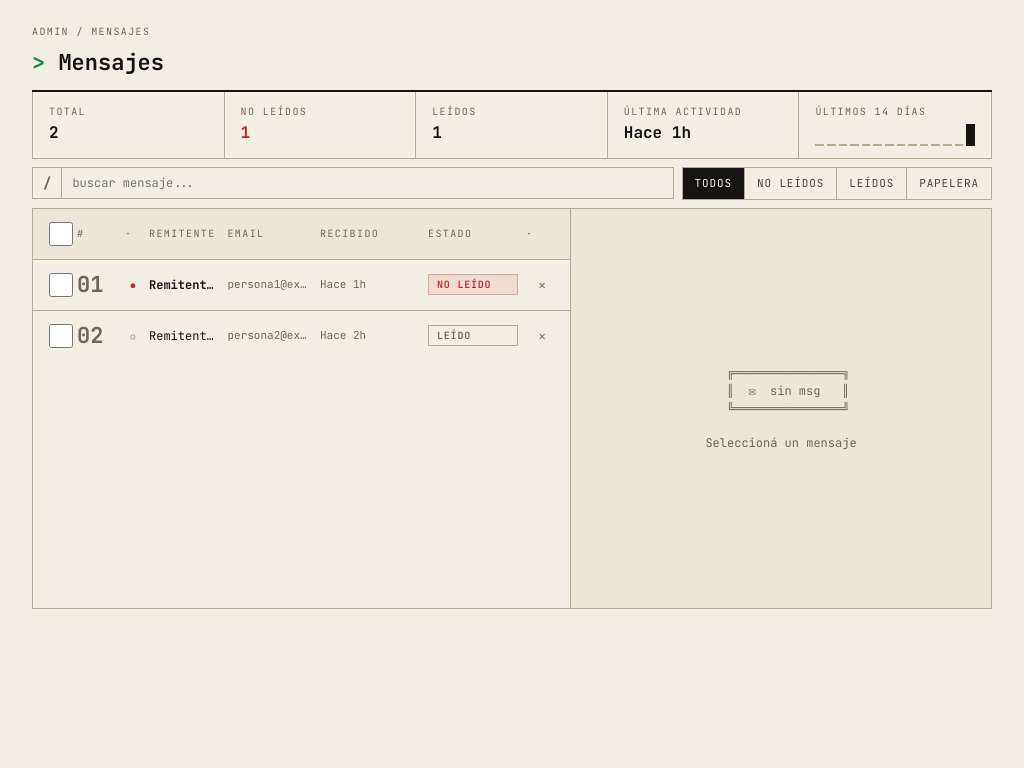
MessagesPage › el filtro "No leídos" oculta los mensajes leídos
The width and height of the screenshot is (1024, 768).
What coordinates should you click on to do the following:
click the button "No leídos"
I would click on:
 (791, 183)
Its box is [745, 168, 837, 199].
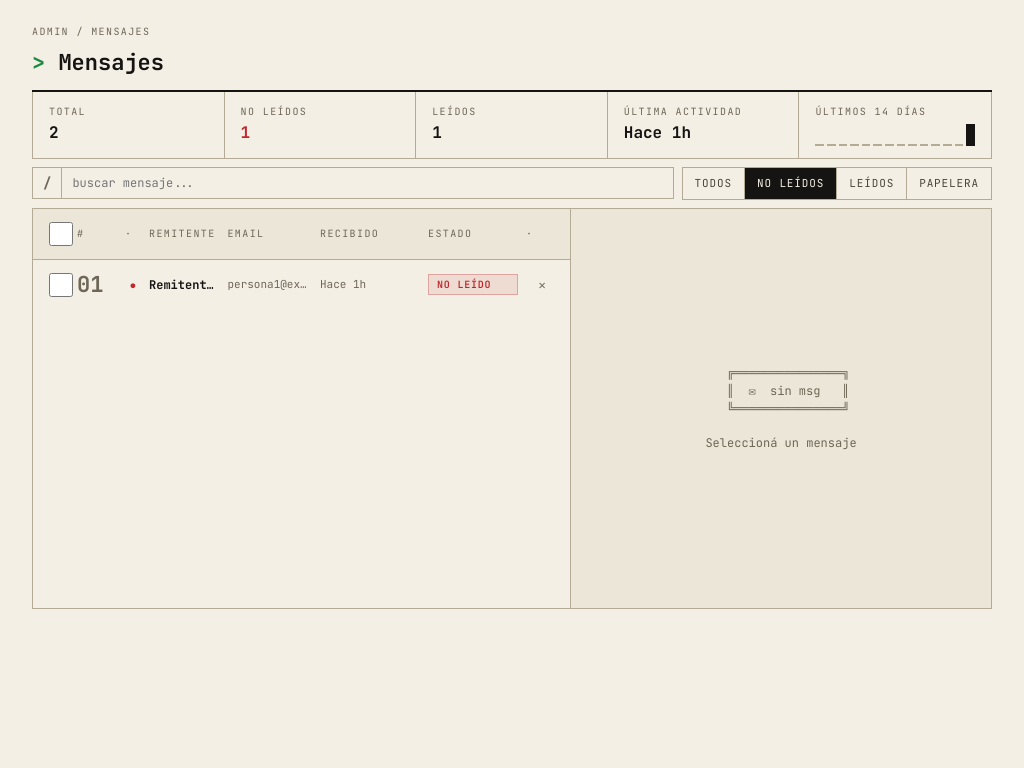
Expected: the text "Remitente 1" is shown, [149, 276, 220, 294]
Expected: the button "Remitente 2" is gone
